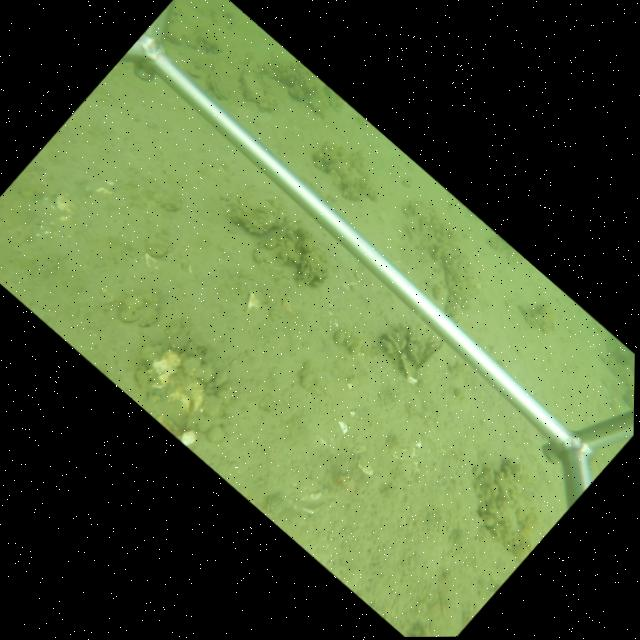Oyster-Closed: (238, 66, 266, 103), (209, 66, 234, 102), (400, 352, 418, 383), (383, 334, 401, 356)
Oyster-Indeterminate: (229, 185, 283, 235)
